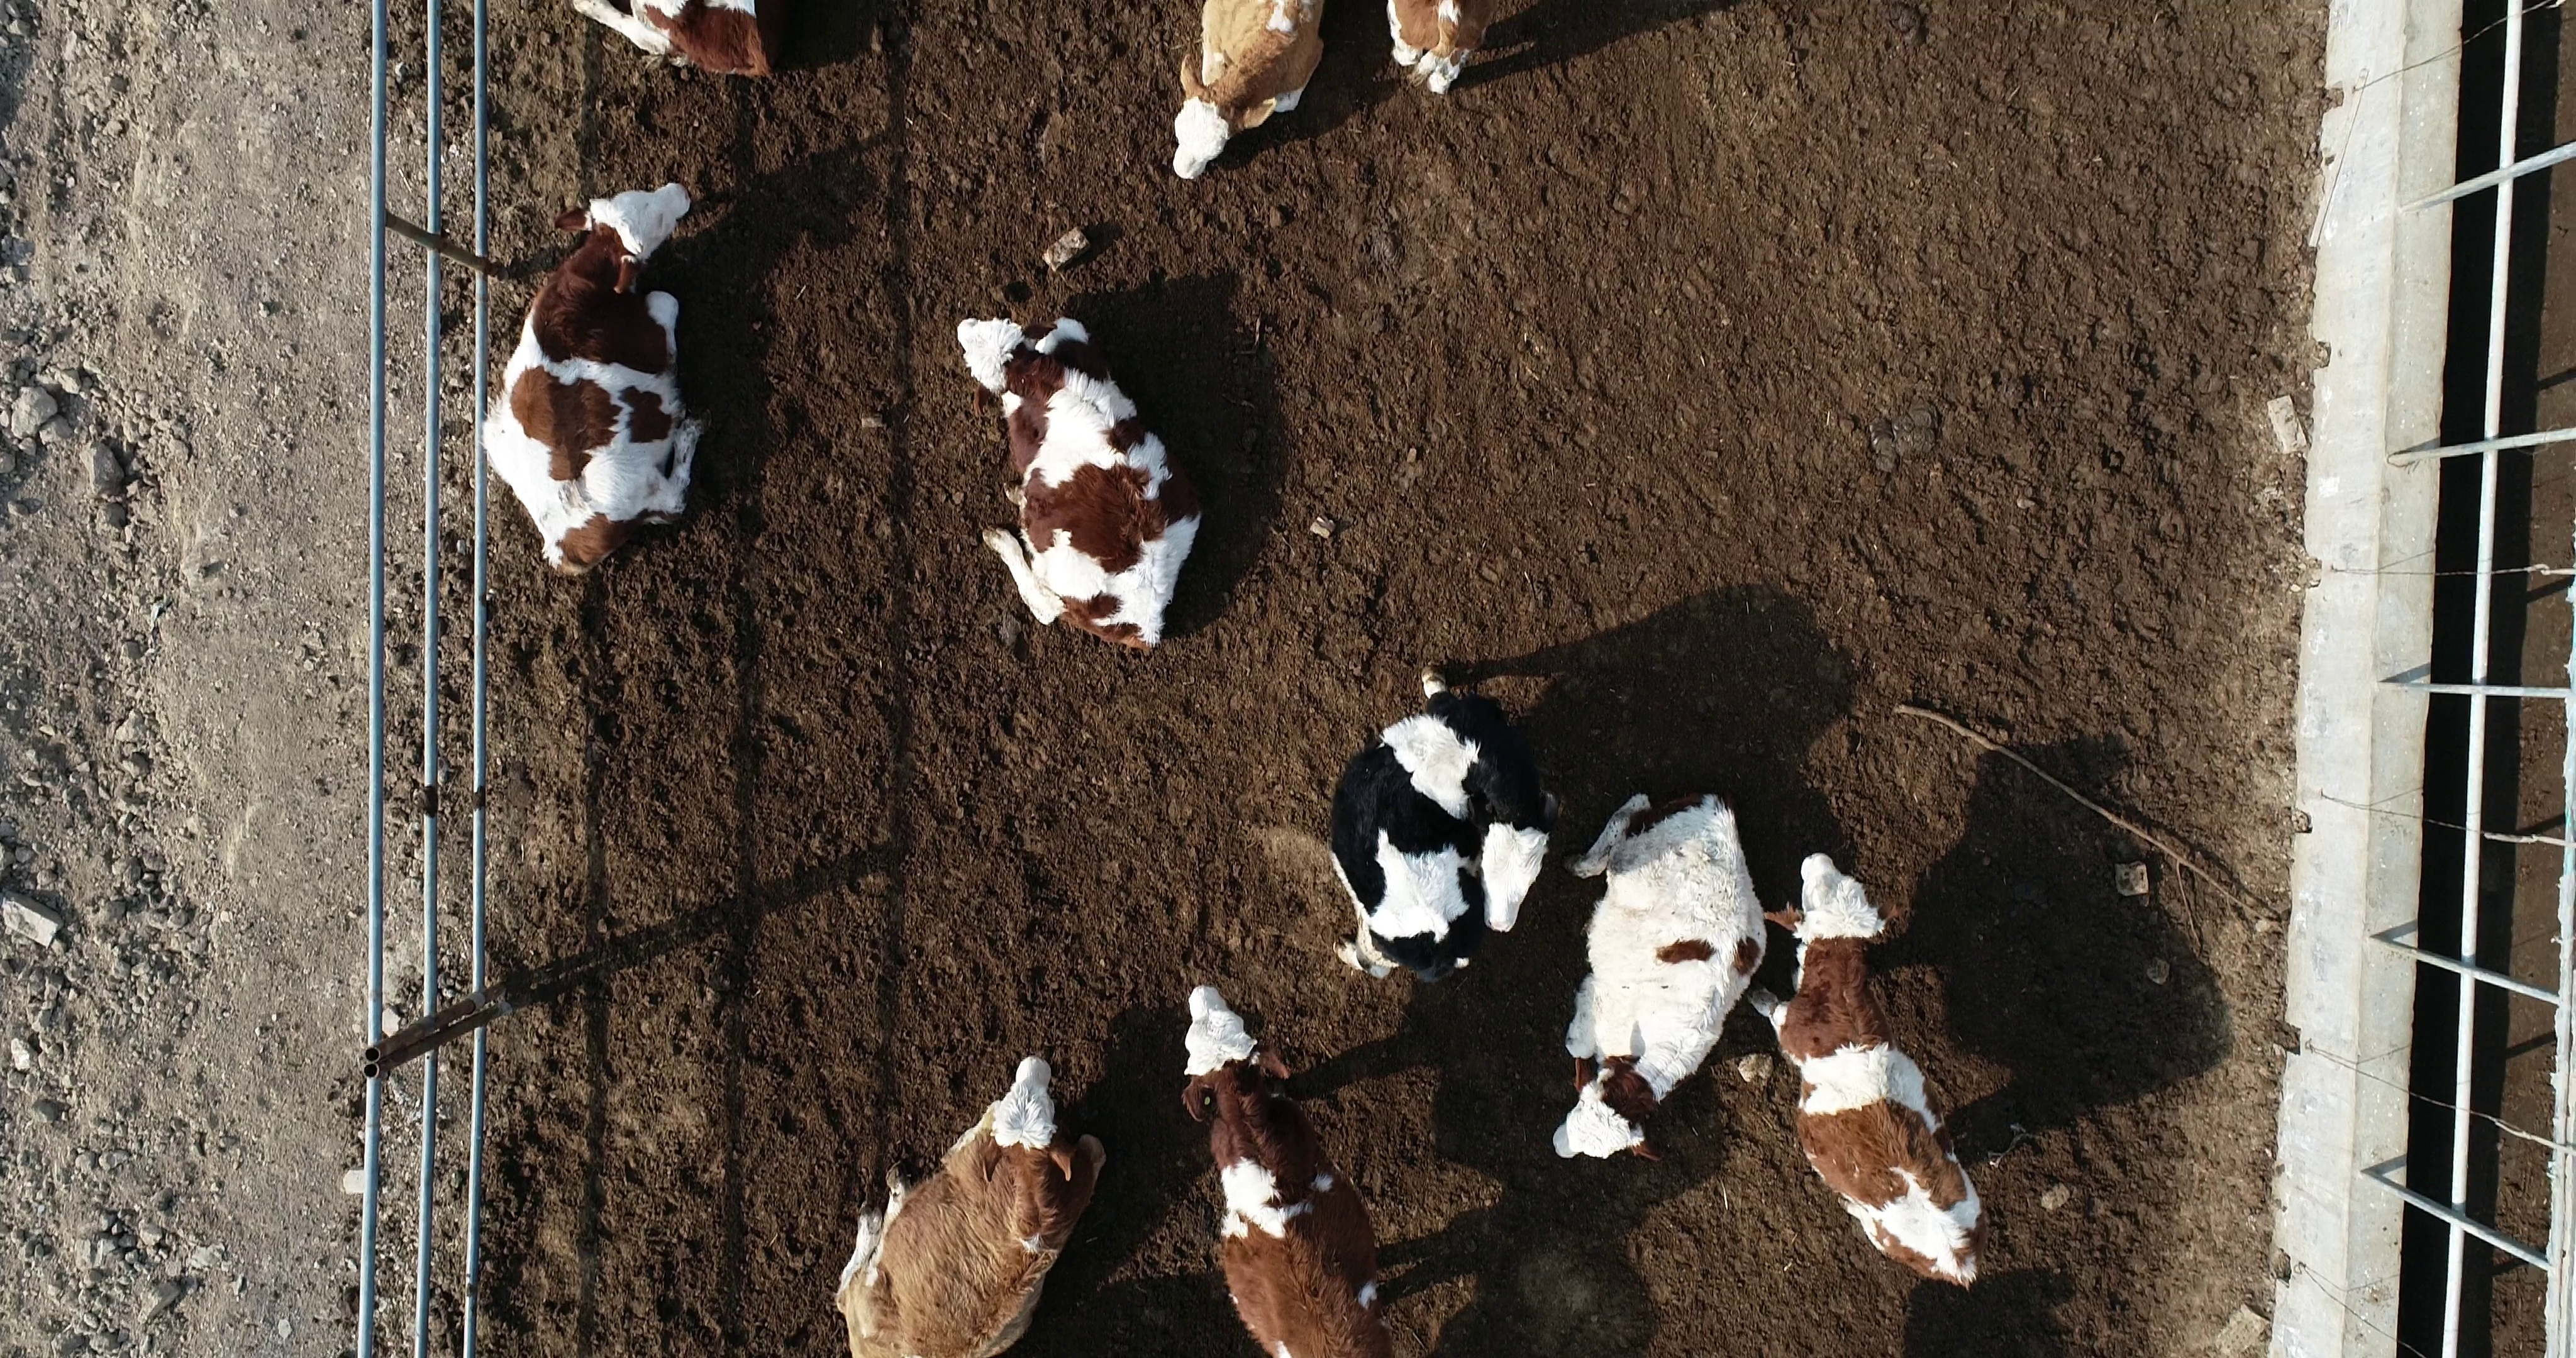cattle: (1746, 845, 1992, 1293), (475, 179, 710, 576), (947, 308, 1211, 661), (1547, 782, 1772, 1164)
